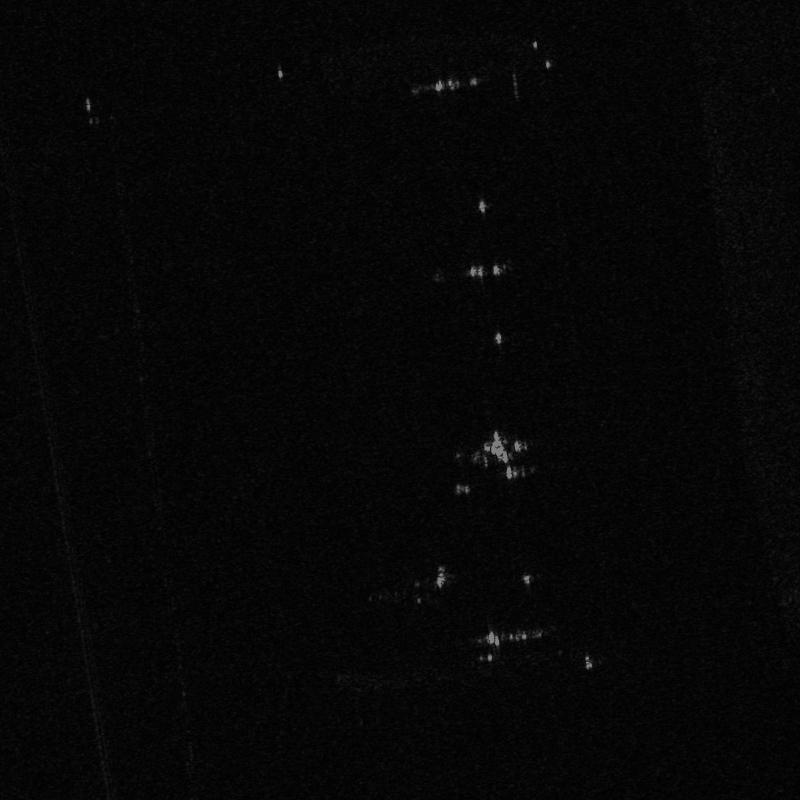A220: (471, 423, 533, 482)
